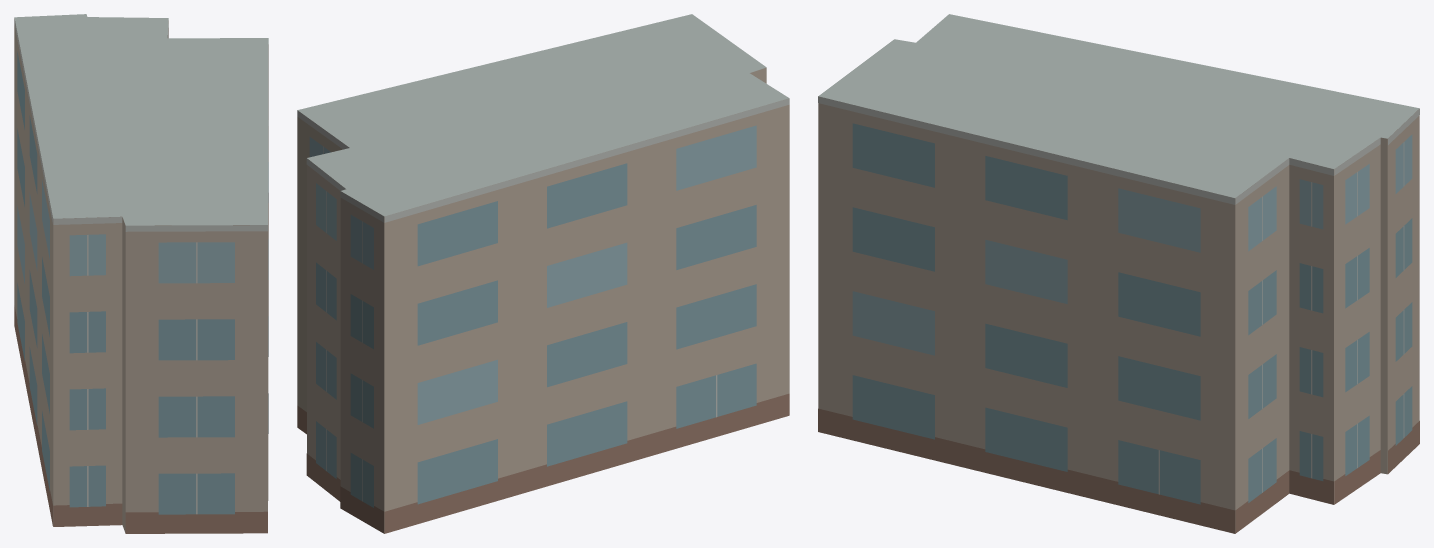
Rendered from survey-upis-32816231.glb.
3 renders of one model, left to right at view 1: azimuth 30°, elevation 25°; view 2: azimuth 150°, elevation 25°; view 3: azimuth 270°, elevation 25°, orthographic. The views are drawn at different scales.
Visible parts, largest first — view 1: survey-upis-32816231.tmp; view 2: survey-upis-32816231.tmp; view 3: survey-upis-32816231.tmp.
Boxes of the visible parts, x1,y1,x2,y2 form: survey-upis-32816231.tmp: [14, 14, 268, 533]; survey-upis-32816231.tmp: [297, 14, 789, 533]; survey-upis-32816231.tmp: [818, 14, 1419, 533].
Bounding box in the file's own units: 14.18 × 12.04 × 19.57.
